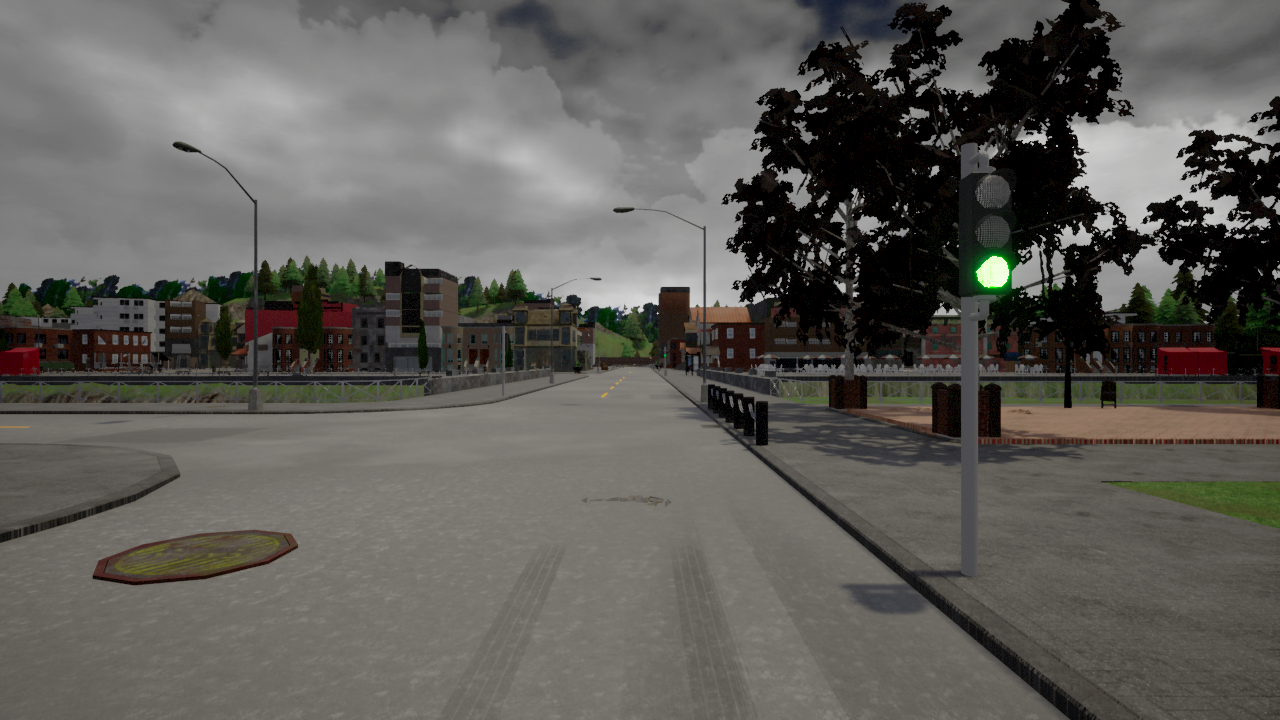green: (961, 169, 1016, 300)
